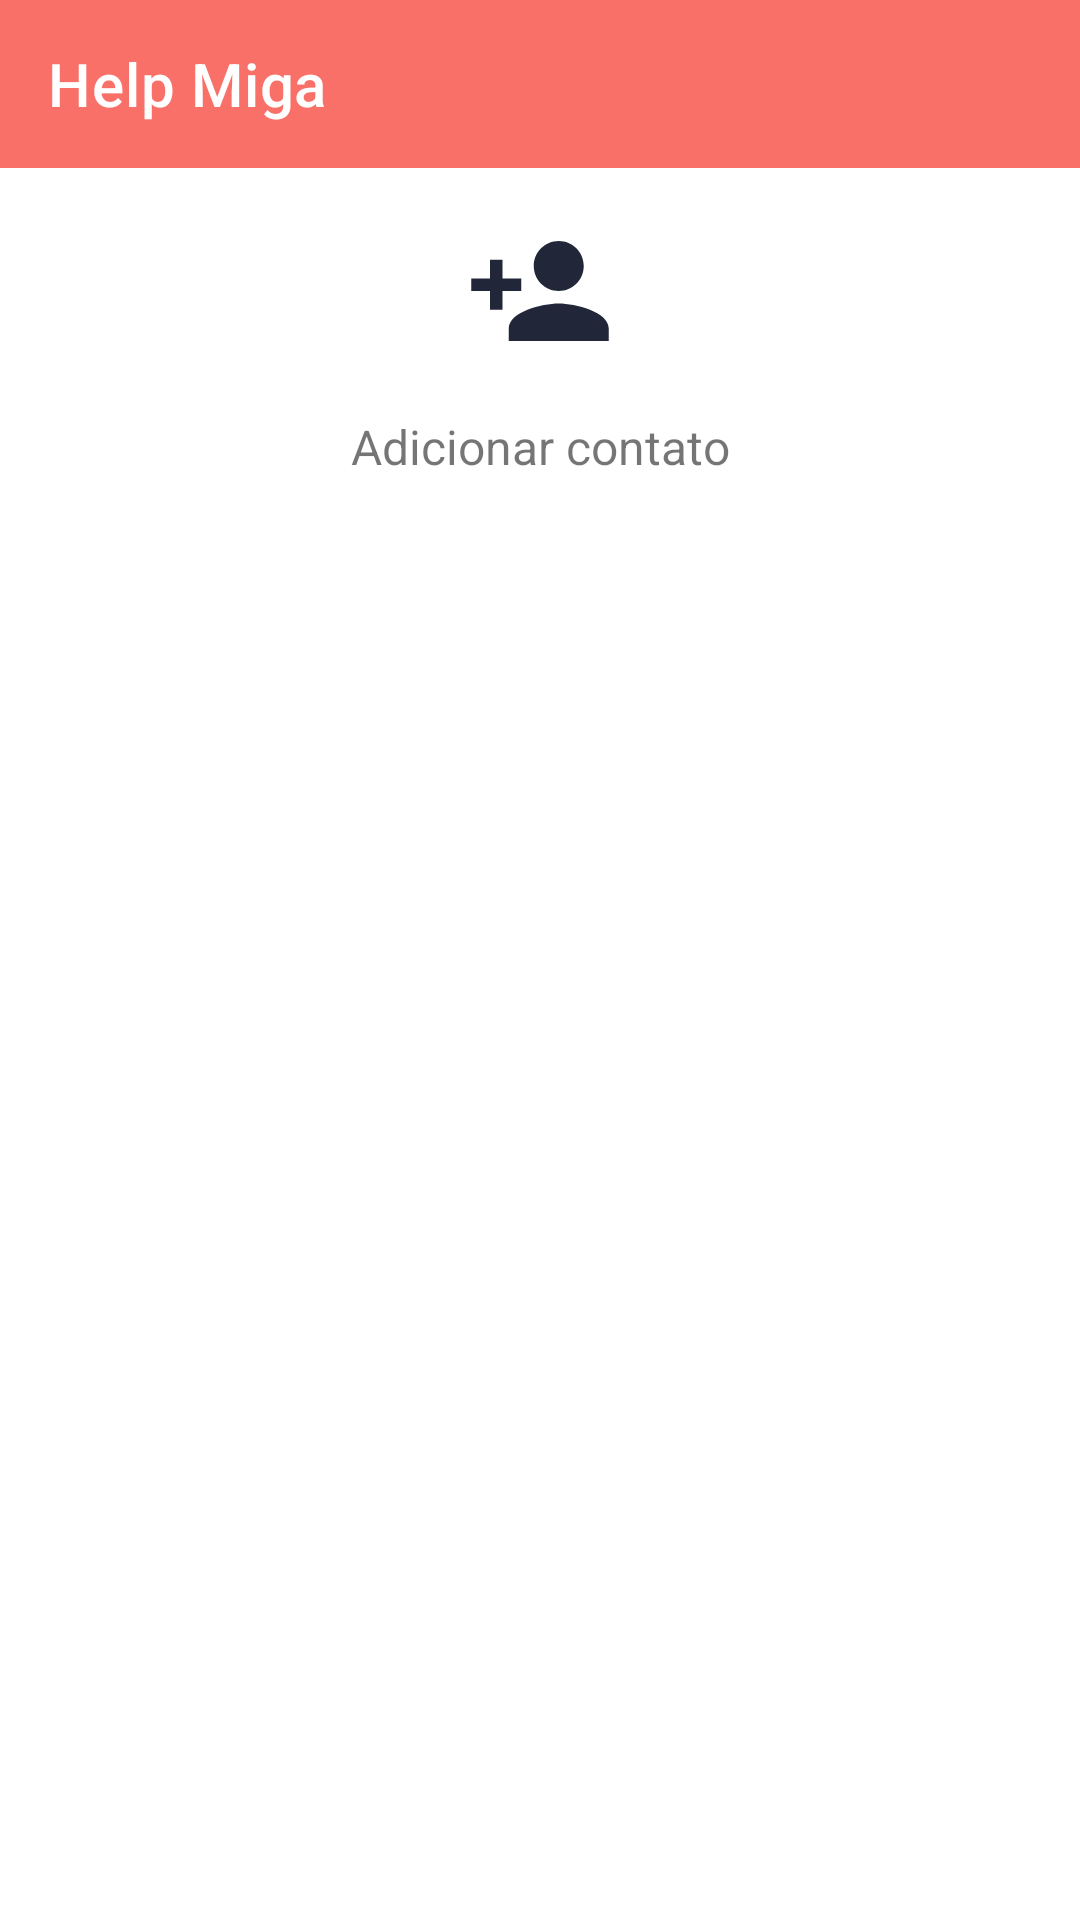

Icons on this 1080*1920 Android screen, each with the point to tap as (x,y):
person add: (540,291)
